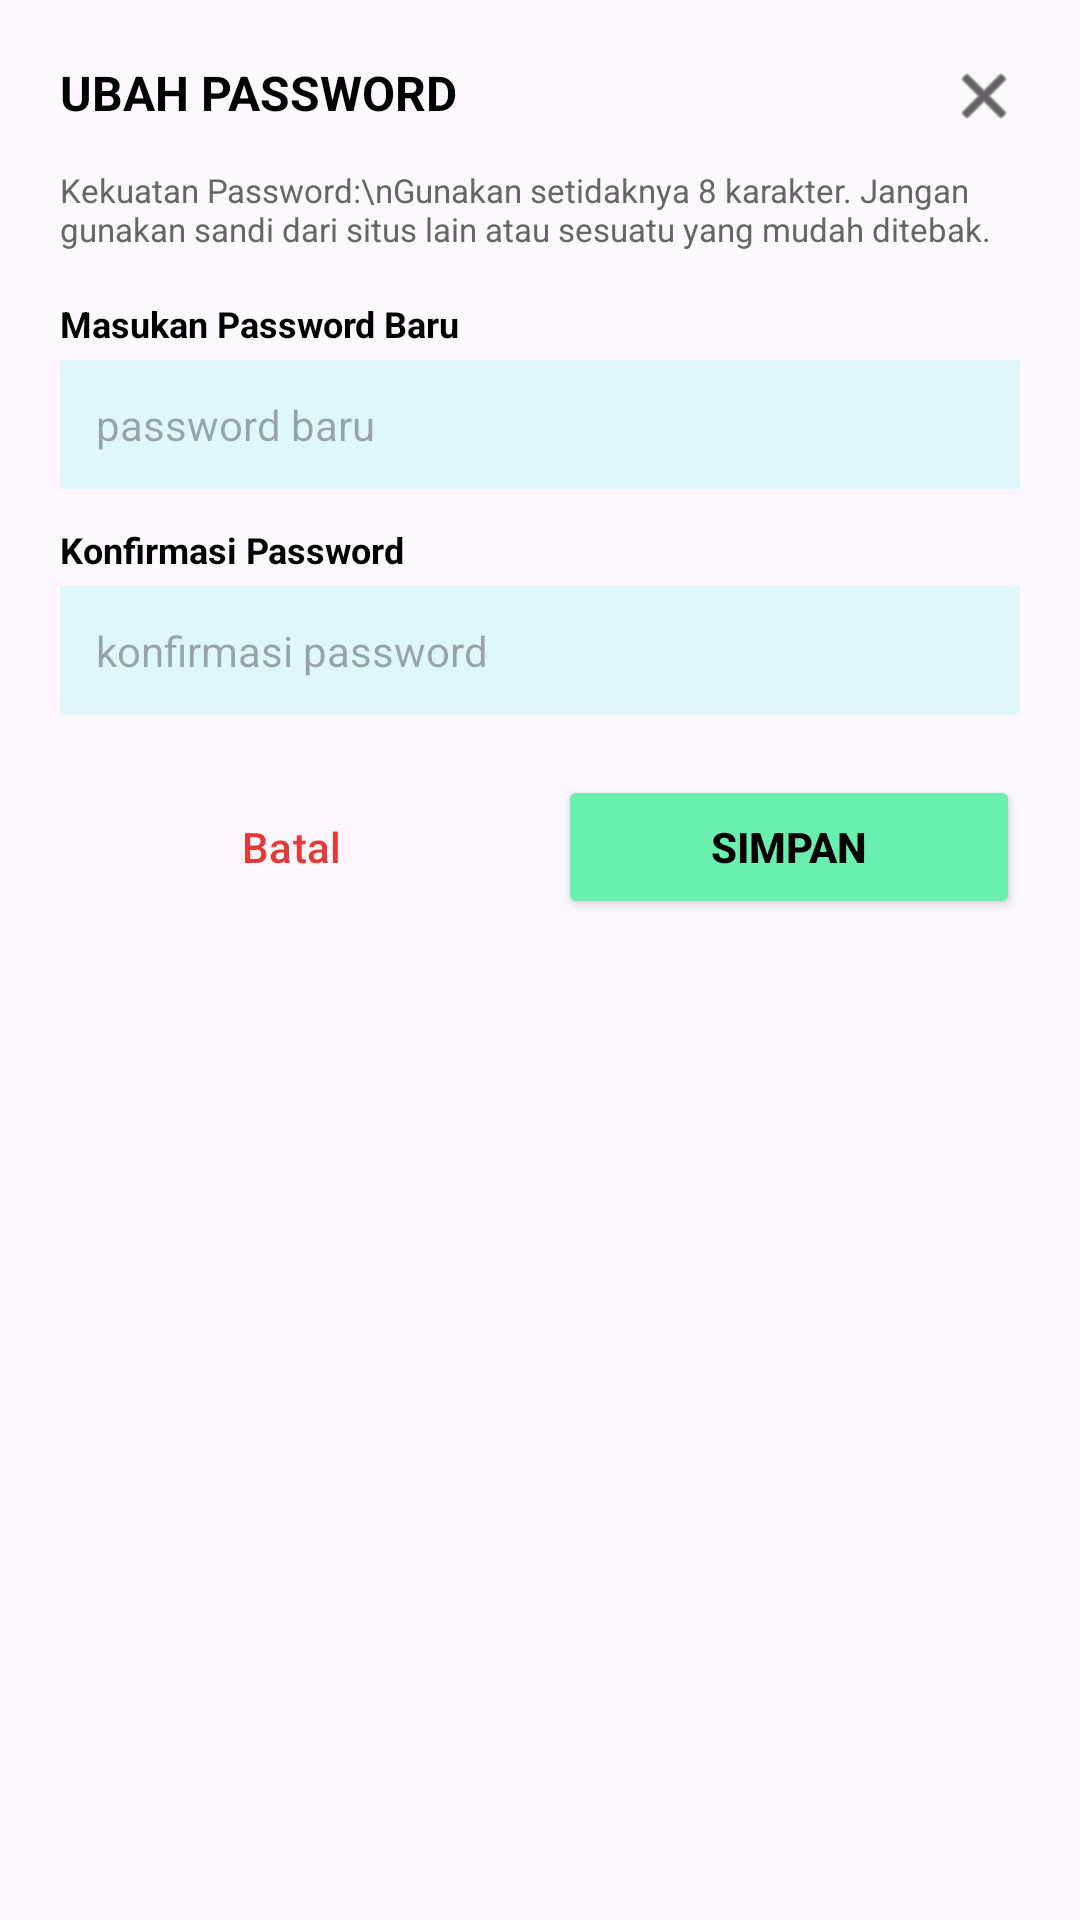

Icon bounding boxes for this 1080 × 1920 phone screenshot, format (x1, y1, x2, y2):
close clear cancel: (961, 73, 1007, 119)
